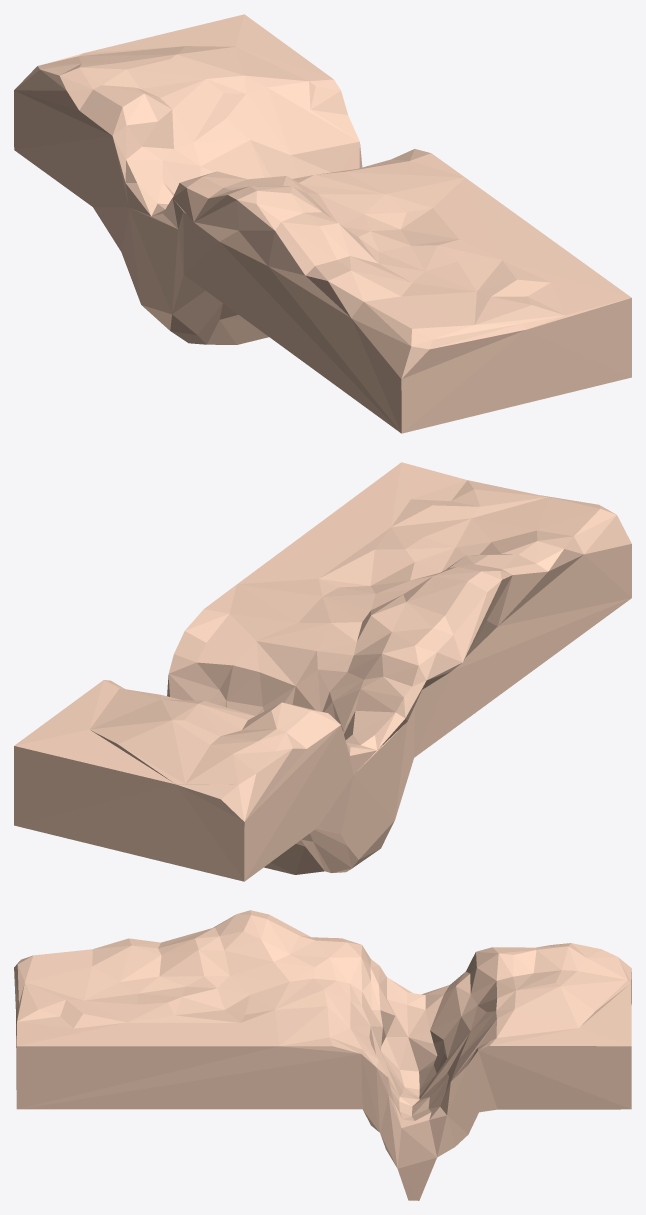
Rendered from terrain.fbx.
3 views of the same model, one above another, from view 1: azimuth 30°, elevation 25°; view 2: azimuth 150°, elevation 25°; view 3: azimuth 270°, elevation 25° (orthographic). The views are drawn at different scales.
Parts seen in each view (by area): view 1: Plane; view 2: Plane; view 3: Plane.
Part boxes in pixels (x1,y1,x2,y2): Plane: (14,14,631,433); Plane: (14,462,631,881); Plane: (14,910,631,1200).
Bounding box in the file's own units: 15705 × 14398 × 41287.
Materials: 1 (1 with a texture image).
